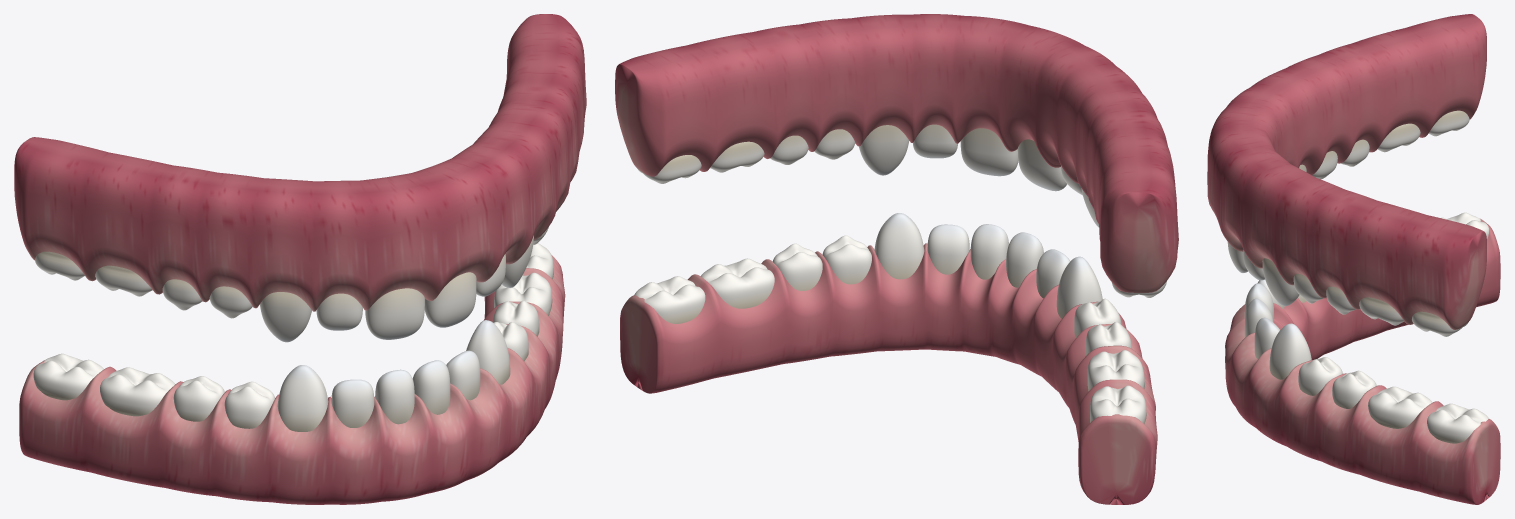
Rendered from protese-total-6.glb.
3 views of the same model, side by side, from view 1: azimuth 30°, elevation 25°; view 2: azimuth 150°, elevation 25°; view 3: azimuth 270°, elevation 25° (orthographic). The views are drawn at different scales.
Parts seen in each view (by area): view 1: SupGengiva, InfGengiva, InfDente_4, InfDente_1, SupDente_6, InfDente_0, SupDente_7, SupDente_4, InfDente_3, InfDente_9, InfDente_5, InfDente_6 (+11 smaller); view 2: SupGengiva, InfGengiva, InfDente_12, InfDente_9, InfDente_13, SupDente_7, InfDente_4, SupDente_9, InfDente_8, InfDente_10, InfDente_7, InfDente_11 (+12 smaller); view 3: SupGengiva, InfGengiva, InfDente_12, InfDente_13, InfDente_9, InfDente_10, InfDente_11, SupDente_9, SupDente_12, SupDente_1, InfDente_8, SupDente_13 (+8 smaller).
Part boxes in pixels (x1,y1,x2,y2): SupGengiva: (14,14,586,311); InfGengiva: (19,255,565,504); InfDente_4: (277,365,328,431); InfDente_1: (100,367,175,416); SupDente_6: (365,288,424,339); InfDente_0: (33,353,103,400); SupDente_7: (424,272,476,327); SupDente_4: (260,292,311,342); InfDente_3: (224,381,274,428); InfDente_9: (466,320,510,384); InfDente_5: (331,379,374,427); InfDente_6: (375,369,414,424); SupGengiva: (615,14,1178,292); InfGengiva: (620,243,1157,504); InfDente_12: (700,258,774,308); InfDente_9: (874,213,924,279); InfDente_13: (634,276,705,323); SupDente_7: (960,128,1018,176); InfDente_4: (1056,256,1102,318); SupDente_9: (859,125,909,175); InfDente_8: (927,224,969,274); InfDente_10: (822,235,871,284); InfDente_7: (970,224,1008,279); InfDente_11: (772,243,822,290); SupGengiva: (1207,14,1486,329); InfGengiva: (1225,218,1500,504); InfDente_12: (1368,386,1432,428); InfDente_13: (1427,403,1488,443); InfDente_9: (1269,323,1311,379); InfDente_10: (1298,357,1342,395); InfDente_11: (1332,370,1376,408); SupDente_9: (1262,258,1299,306); SupDente_12: (1359,297,1404,325); SupDente_1: (1377,123,1420,152); InfDente_8: (1254,317,1279,358); SupDente_13: (1412,311,1468,336).
Size of the model in its own units: 0.0696 by 0.0377 by 0.0367.
